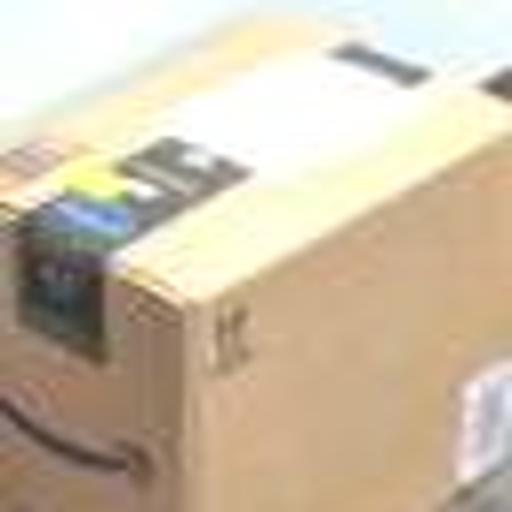Amazon: (0, 41, 512, 511)
